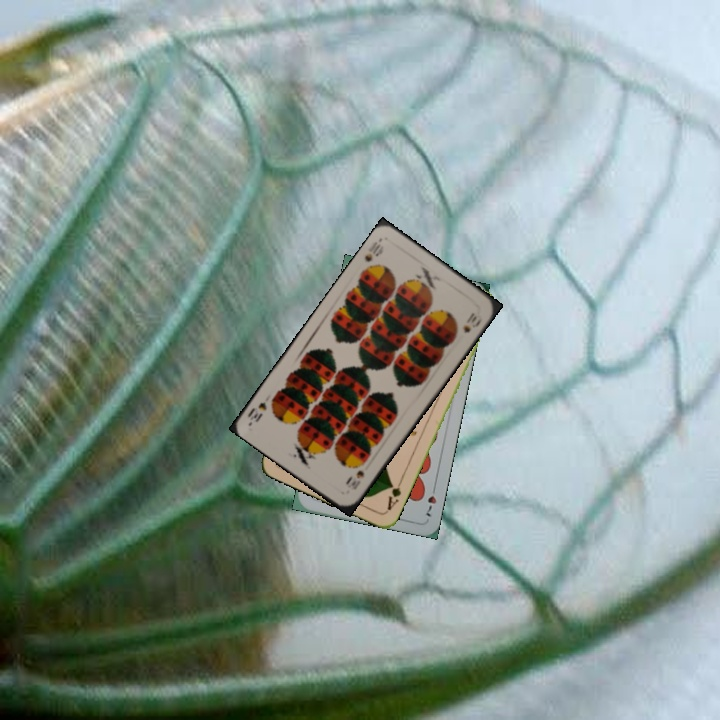GA: (383, 475, 405, 513)
H7: (422, 481, 439, 519)
S10: (343, 457, 368, 493), (360, 235, 386, 265)
